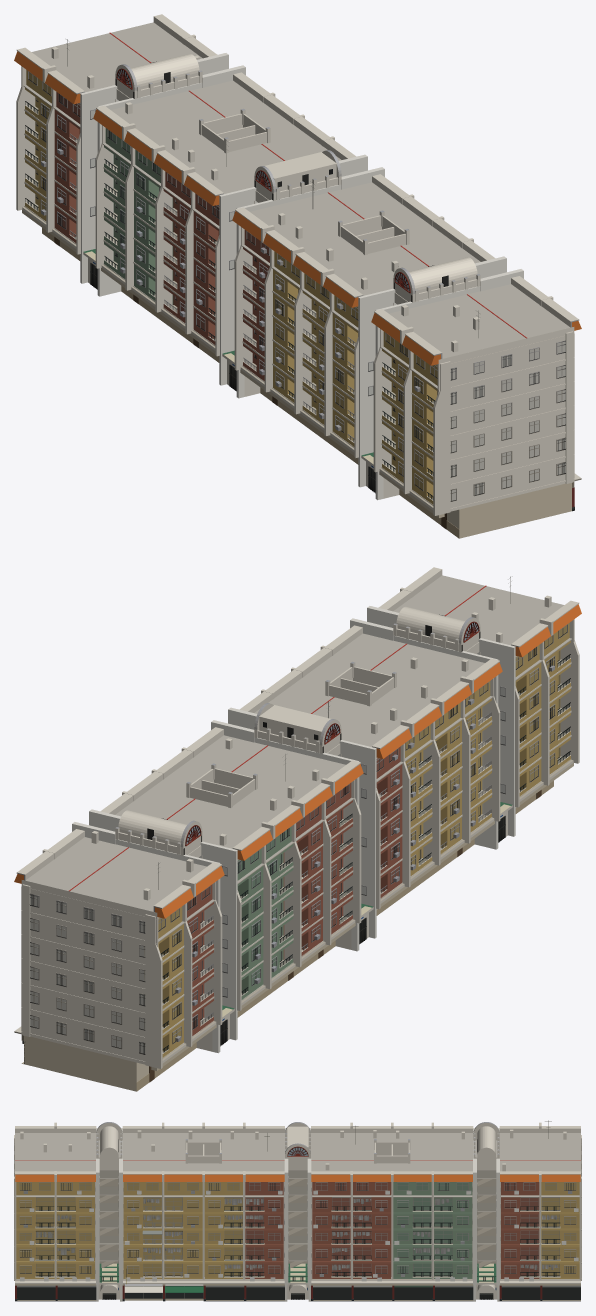
File: SM_Estate_SE.glb
3 renders of one model, top to bottom at view 1: azimuth 30°, elevation 25°; view 2: azimuth 150°, elevation 25°; view 3: azimuth 270°, elevation 25°, orthographic. The views are drawn at different scales.
Parts seen in each view (by area): view 1: SM_Estate_SE_LM0, SM_Estate_SE_LM1, SM_Estate_SE_VC, SM_Estate_SE_NB; view 2: SM_Estate_SE_LM1, SM_Estate_SE_LM0, SM_Estate_SE_VC, SM_Estate_SE_NB; view 3: SM_Estate_SE_LM1, SM_Estate_SE_LM0, SM_Estate_SE_VC, SM_Estate_SE_NB.
Boxes of the visible parts, <box> form: SM_Estate_SE_LM0: <box>232,150,581,538</box>; SM_Estate_SE_LM1: <box>14,14,367,390</box>; SM_Estate_SE_VC: <box>25,39,581,519</box>; SM_Estate_SE_NB: <box>29,69,565,499</box>; SM_Estate_SE_LM1: <box>14,705,373,1091</box>; SM_Estate_SE_LM0: <box>228,567,581,938</box>; SM_Estate_SE_VC: <box>14,576,570,1072</box>; SM_Estate_SE_NB: <box>30,622,566,1052</box>; SM_Estate_SE_LM1: <box>285,1122,581,1301</box>; SM_Estate_SE_LM0: <box>14,1122,310,1301</box>; SM_Estate_SE_VC: <box>14,1120,581,1301</box>; SM_Estate_SE_NB: <box>20,1147,575,1297</box>.
Bounding box in the file's own units: 20.03 × 25.7 × 90.79.
